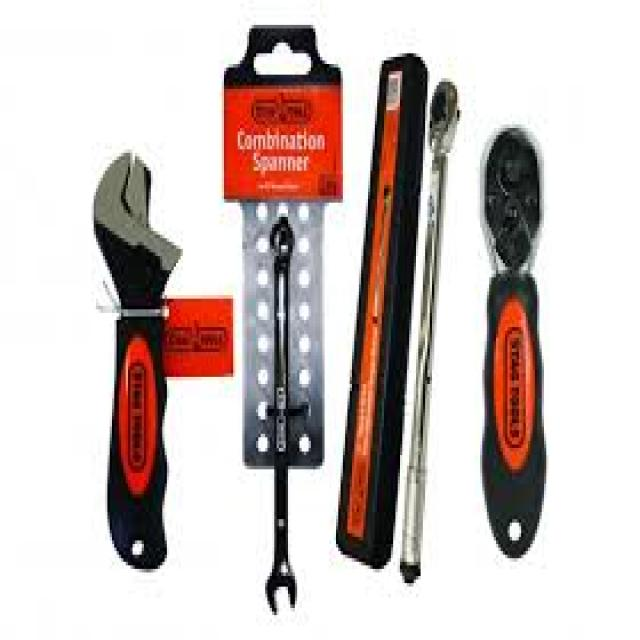wrench: (87, 108, 188, 594)
